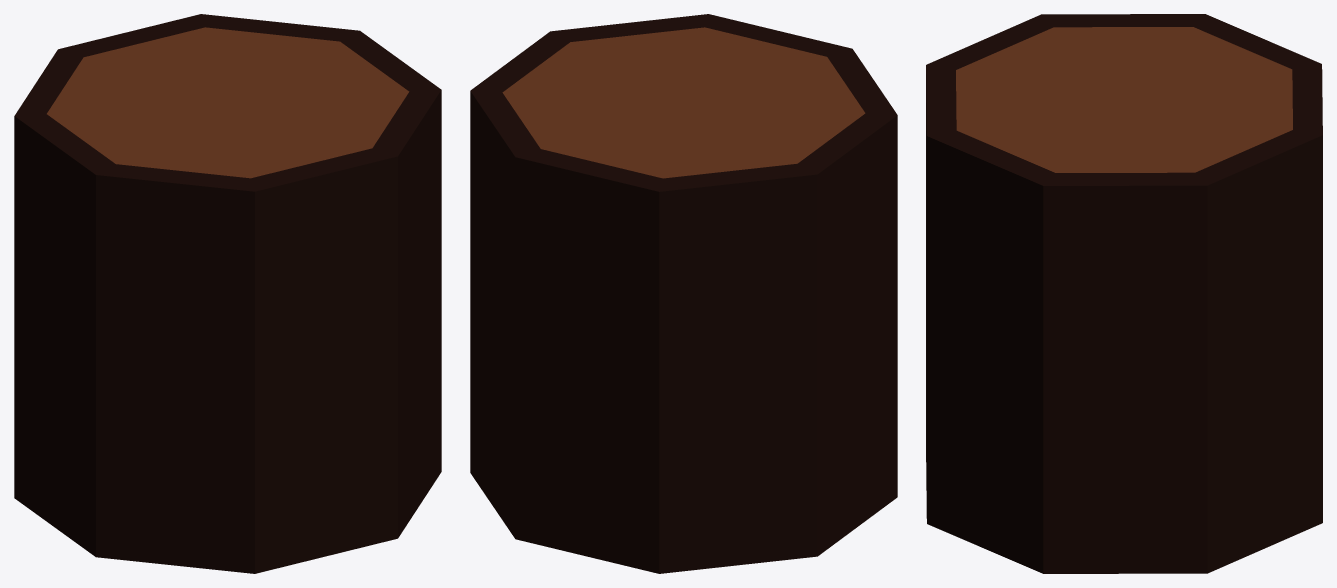
File: Log No Axe.FBX
The picture shows the model from 3 angles, left to right: view 1: azimuth 30°, elevation 25°; view 2: azimuth 150°, elevation 25°; view 3: azimuth 270°, elevation 25°; orthographic projection.
Visible parts, largest first — view 1: Log no axe; view 2: Log no axe; view 3: Log no axe.
Part boxes in pixels (bbox=[...]): Log no axe: bbox=[14, 14, 441, 573]; Log no axe: bbox=[470, 14, 897, 573]; Log no axe: bbox=[926, 14, 1322, 573].
Size of the model in its own units: 13.3 by 13.98 by 12.97.
